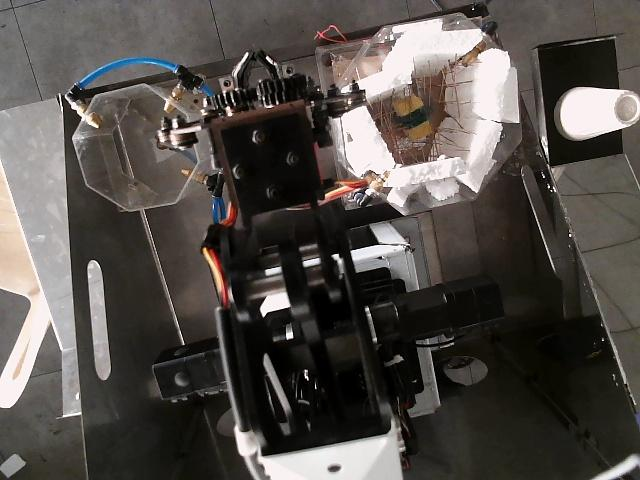cup: (555, 87, 639, 140)
